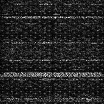lte: (1, 72, 104, 77), (1, 16, 103, 18)
